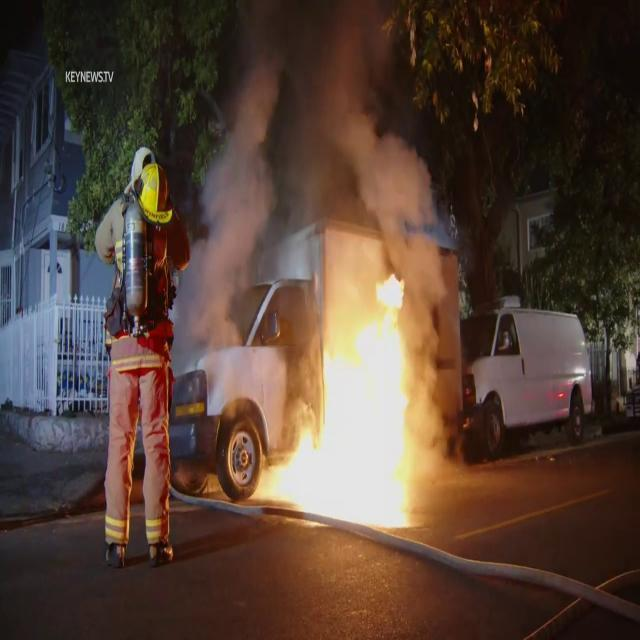Fire: (260, 276, 427, 536)
Smoke: (171, 0, 457, 324)
